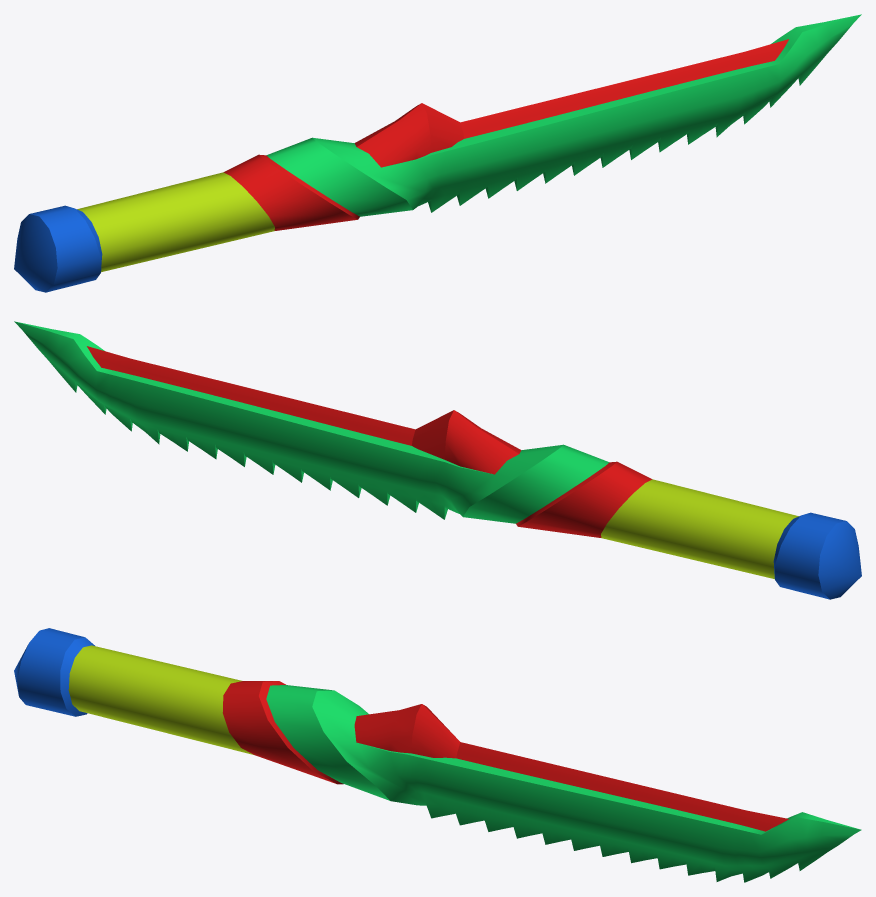
The model's file is RangaWorkshopKnife.fbx.
The picture shows the model from 3 angles, top to bottom: view 1: azimuth 30°, elevation 25°; view 2: azimuth 150°, elevation 25°; view 3: azimuth 330°, elevation 25°; orthographic projection.
Parts seen in each view (by area): view 1: Ranga Workshop - Knife; view 2: Ranga Workshop - Knife; view 3: Ranga Workshop - Knife.
Part boxes in pixels (x1,y1,x2,y2): Ranga Workshop - Knife: (14,14,861,292); Ranga Workshop - Knife: (14,321,861,599); Ranga Workshop - Knife: (14,628,861,882).
Size of the model in its own units: 57.2 by 7.25 by 4.81.
